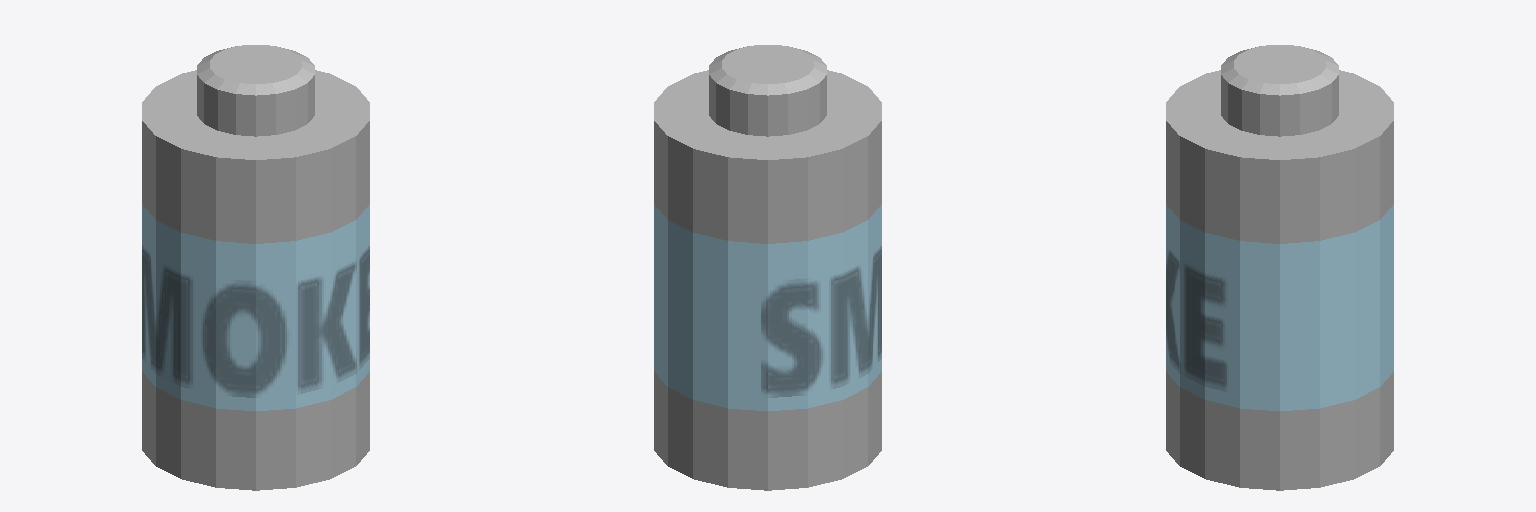
3 views of the same model, side by side, from view 1: azimuth 30°, elevation 25°; view 2: azimuth 150°, elevation 25°; view 3: azimuth 270°, elevation 25° (orthographic).
Visible parts, largest first — view 1: Cilindro001; view 2: Cilindro001; view 3: Cilindro001.
Boxes of the visible parts, x1,y1,x2,y2 form: Cilindro001: [142, 45, 369, 490]; Cilindro001: [654, 45, 881, 490]; Cilindro001: [1166, 45, 1393, 490].
Bounding box in the file's own units: 9.17 × 16.71 × 9.03.
Materials: 1 (1 with a texture image).